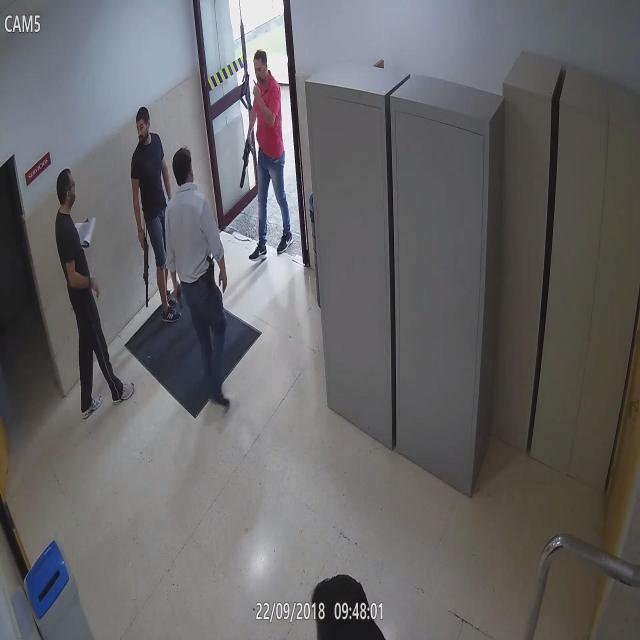pistol: (136, 227, 156, 313), (238, 136, 254, 190), (206, 250, 218, 302)
